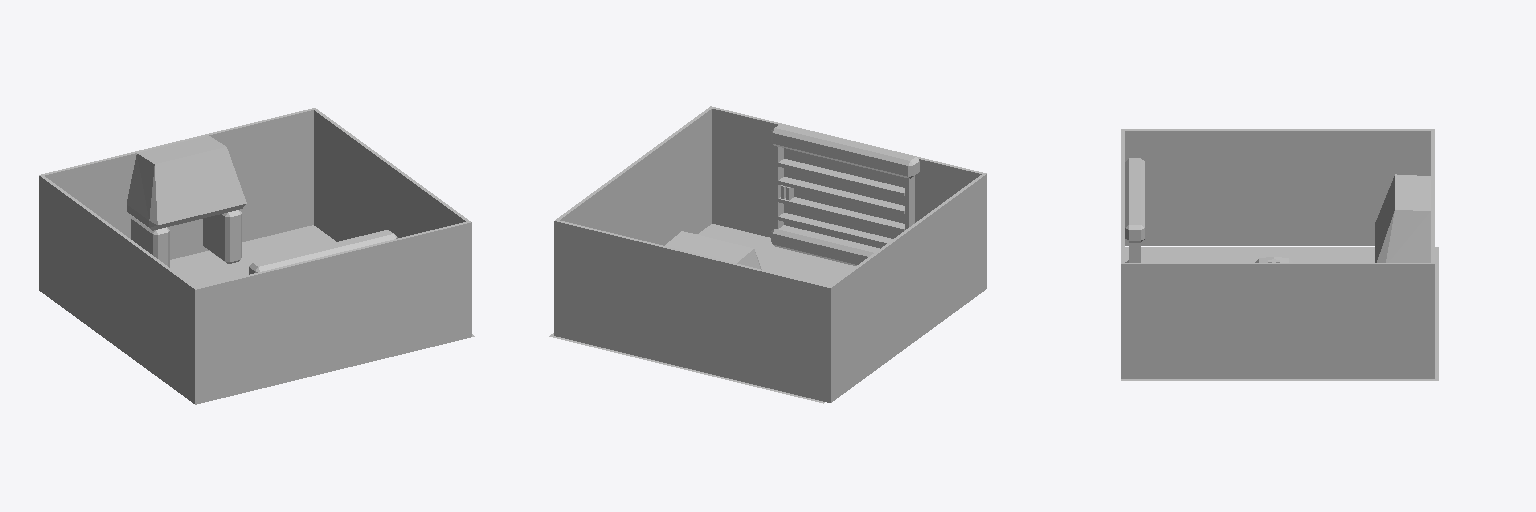
Rendered from vampire room.obj.
3 views of the same model, side by side, from view 1: azimuth 30°, elevation 25°; view 2: azimuth 150°, elevation 25°; view 3: azimuth 270°, elevation 25° (orthographic).
Parts seen in each view (by area): view 1: Wall4, Wall1, Wall3, Lareira, plane, beveled_cuboid; view 2: Wall3, Wall4, Wall1, beveled_cuboid, plane, Lareira; view 3: Wall4, Wall1, plane, Lareira, beveled_cuboid, Wall3.
Part boxes in pixels (left/top/right/bottom): Wall4: left=197, top=108, right=471, bottom=403; Wall1: left=39, top=174, right=198, bottom=404; Wall3: left=42, top=108, right=314, bottom=259; Lareira: left=127, top=136, right=246, bottom=267; plane: left=170, top=225, right=474, bottom=336; beveled_cuboid: left=249, top=230, right=397, bottom=274; Wall3: left=556, top=220, right=828, bottom=401; Wall4: left=554, top=106, right=984, bottom=336; Wall1: left=827, top=173, right=986, bottom=402; beveled_cuboid: left=771, top=124, right=919, bottom=265; plane: left=549, top=224, right=855, bottom=403; Lareira: left=652, top=231, right=761, bottom=321; Wall4: left=1121, top=130, right=1434, bottom=378; Wall1: left=1121, top=129, right=1434, bottom=245; plane: left=1121, top=247, right=1438, bottom=380; Lareira: left=1375, top=174, right=1430, bottom=262; beveled_cuboid: left=1125, top=158, right=1144, bottom=262; Wall3: left=1431, top=131, right=1434, bottom=262.
Bounding box in the file's own units: 10.19 × 4.31 × 10.